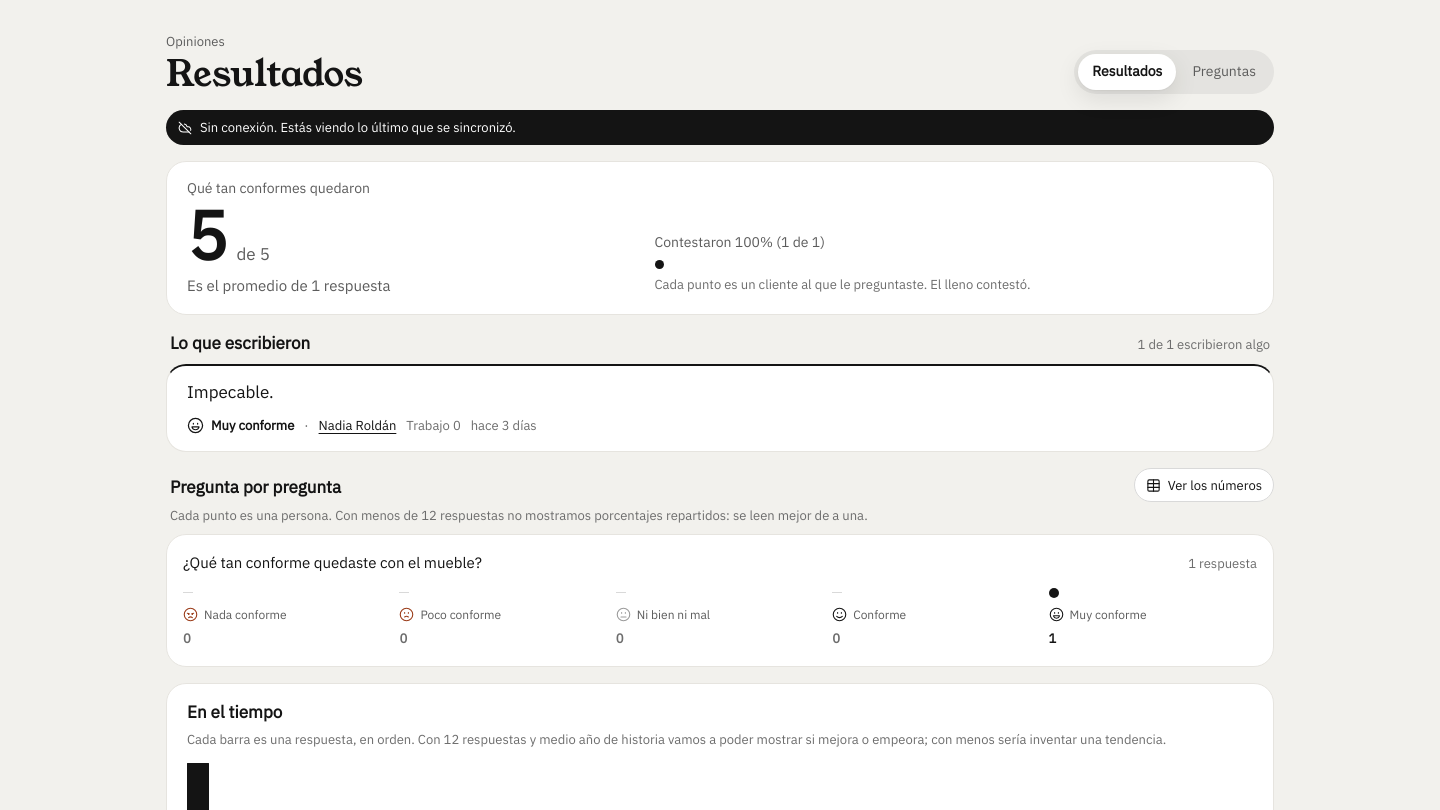
Scenario: Resultados › tocar el nombre de quien escribió abre su respuesta y la marca leída
Click the button "Nadia Roldán" at (358, 426), box [319,416,396,436]
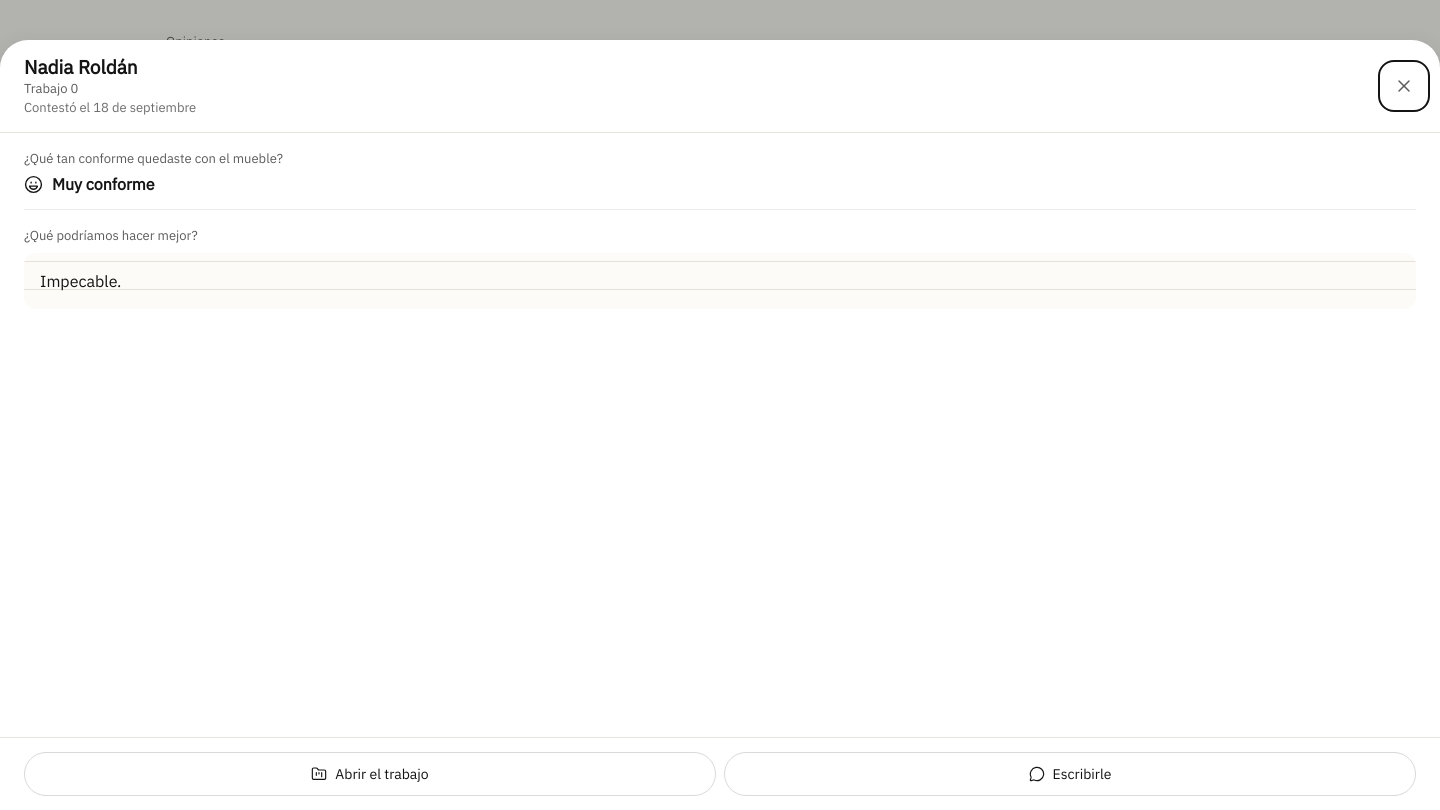
Expected: the text "Contestó el 18 de septiembre" is shown, [24,98,196,118]
Expected: the text "Muy conforme" is shown, [52,172,154,196]
